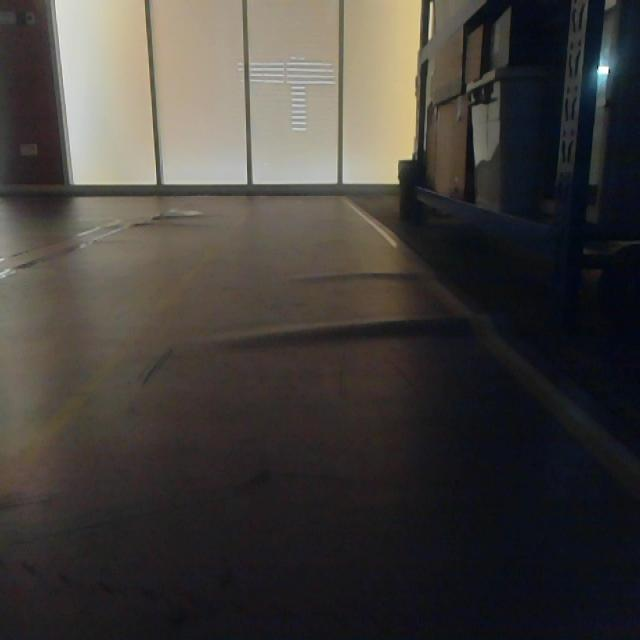left_lane: (0, 203, 259, 503)
right_lane: (346, 196, 640, 495)
